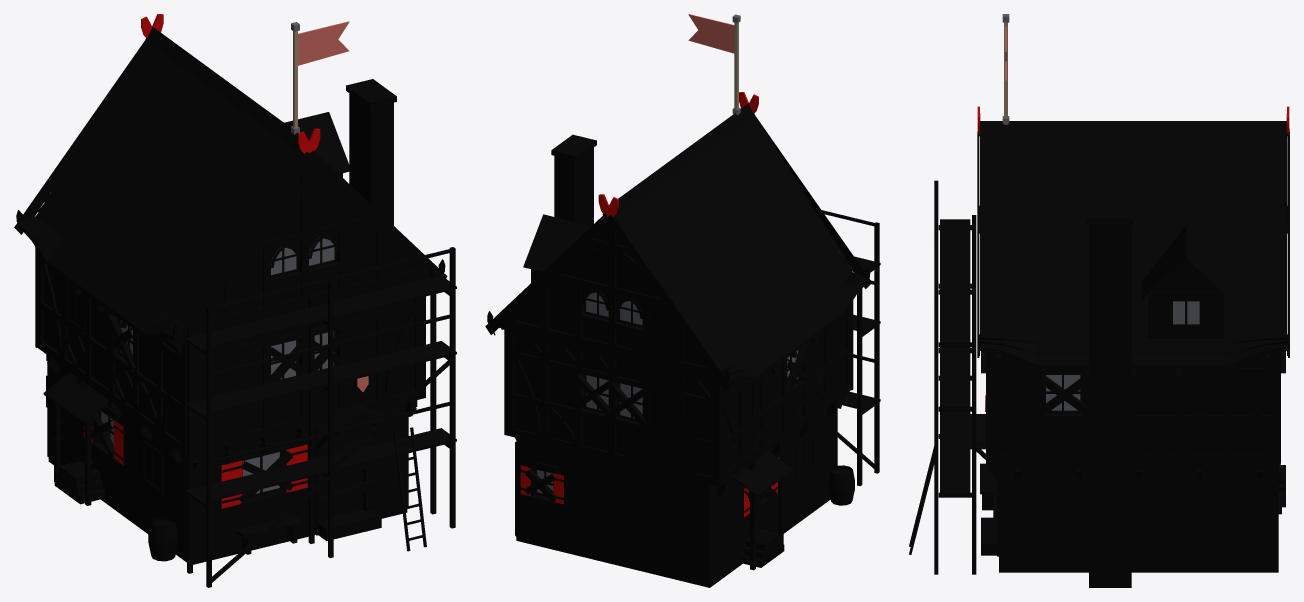
Rendered from wohnhaus_elb_s2_g1.glb.
3 renders of one model, left to right at view 1: azimuth 30°, elevation 25°; view 2: azimuth 150°, elevation 25°; view 3: azimuth 270°, elevation 25°, orthographic. The views are drawn at different scales.
Visible parts, largest first — view 1: Haus, Dach, Geruest, Leerstand, Scheiben, Fahne; view 2: Haus, Dach, Geruest, Leerstand, Fahne, Scheiben; view 3: Haus, Dach, Geruest, Leerstand, Scheiben, Fahne.
Part boxes in pixels (x1,y1,x2,y2): Haus: (35, 44, 425, 564); Dach: (14, 14, 447, 349); Geruest: (185, 247, 456, 587); Leerstand: (91, 314, 374, 506); Scheiben: (101, 237, 334, 493); Fahne: (291, 21, 349, 134); Haus: (504, 119, 854, 587); Dach: (485, 92, 872, 391); Geruest: (821, 210, 880, 486); Leerstand: (524, 342, 811, 509); Fahne: (688, 14, 740, 115); Scheiben: (537, 291, 798, 493); Haus: (965, 137, 1281, 587); Dach: (977, 106, 1289, 376); Geruest: (909, 180, 976, 574); Leerstand: (981, 351, 1285, 520); Scheiben: (1046, 301, 1199, 410); Fahne: (1002, 14, 1009, 124).
Bounding box in the file's own units: 6.73 × 11.75 × 8.03.
